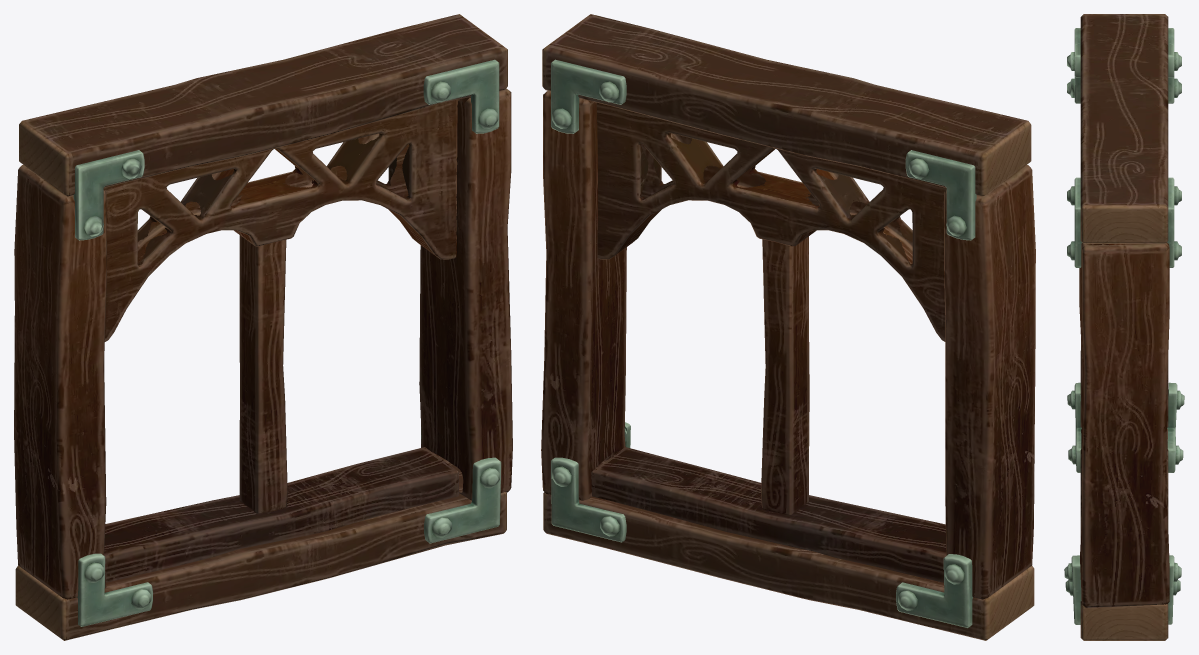
3 views of the same model, side by side, from view 1: azimuth 30°, elevation 25°; view 2: azimuth 150°, elevation 25°; view 3: azimuth 270°, elevation 25° (orthographic). The views are drawn at different scales.
Parts seen in each view (by area): view 1: SM_BB_T4_Window_LOD0; view 2: SM_BB_T4_Window_LOD0; view 3: SM_BB_T4_Window_LOD0.
Boxes of the visible parts, bbox=[...] form: SM_BB_T4_Window_LOD0: bbox=[14, 14, 512, 640]; SM_BB_T4_Window_LOD0: bbox=[541, 14, 1035, 640]; SM_BB_T4_Window_LOD0: bbox=[1064, 14, 1184, 640].
Size of the model in its own units: 1.27 by 1.3 by 0.3221.
1 material, 1 textured.
